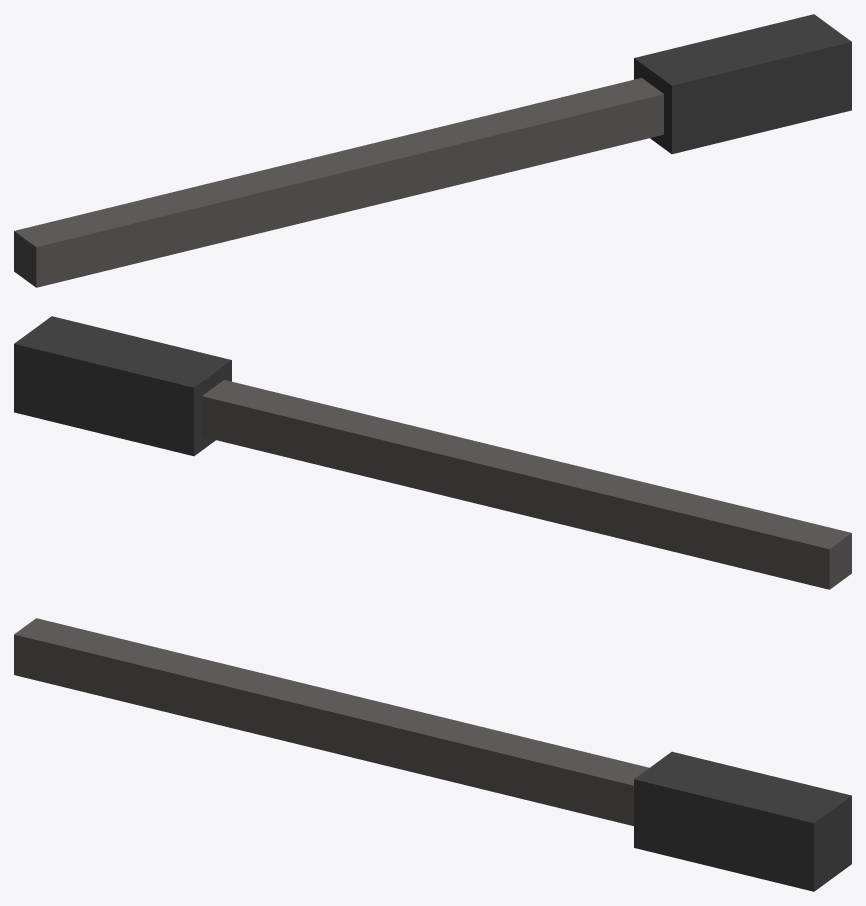
The model's file is Cable_A_1_1.fbx.
The picture shows the model from 3 angles, top to bottom: view 1: azimuth 30°, elevation 25°; view 2: azimuth 150°, elevation 25°; view 3: azimuth 330°, elevation 25°; orthographic projection.
Parts seen in each view (by area): view 1: Cable_A_1_1; view 2: Cable_A_1_1; view 3: Cable_A_1_1.
Boxes of the visible parts, x1,y1,x2,y2 form: Cable_A_1_1: [14, 14, 851, 287]; Cable_A_1_1: [14, 316, 851, 589]; Cable_A_1_1: [14, 618, 851, 891].
Size of the model in its own units: 121 by 9.83 by 9.83.
